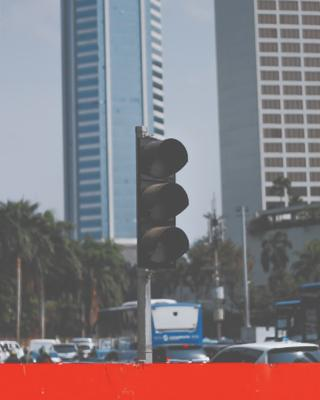International Road Signal Light: (136, 136, 191, 270)
